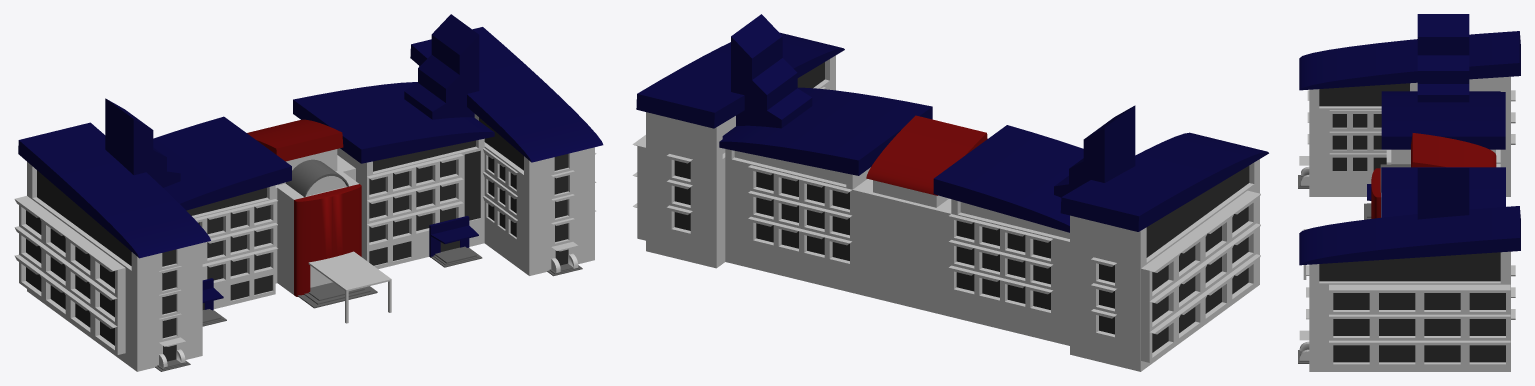
Rendered from feboblibfkb.fbx.
3 renders of one model, left to right at view 1: azimuth 30°, elevation 25°; view 2: azimuth 150°, elevation 25°; view 3: azimuth 270°, elevation 25°, orthographic. The views are drawn at different scales.
Visible parts, largest first — view 1: Plane, Plane.002, Plane.001, Cube, Cylinder, Plane.005, Plane.009, Plane.006; view 2: Plane, Plane.002, Plane.001; view 3: Plane, Plane.001, Plane.002.
Boxes of the visible parts, x1,y1,x2,y2 form: Plane: [14, 27, 603, 371]; Plane.002: [404, 14, 479, 119]; Plane.001: [105, 98, 180, 187]; Cube: [308, 251, 391, 323]; Cylinder: [285, 159, 348, 197]; Plane.005: [429, 216, 478, 257]; Plane.009: [297, 282, 377, 308]; Plane.006: [431, 246, 482, 267]; Plane: [632, 32, 1268, 371]; Plane.002: [731, 14, 812, 128]; Plane.001: [1054, 105, 1135, 197]; Plane: [1299, 31, 1520, 371]; Plane.001: [1417, 14, 1469, 102]; Plane.002: [1417, 168, 1469, 219].
Bounding box in the file's own units: 10591 × 4103 × 4631.
